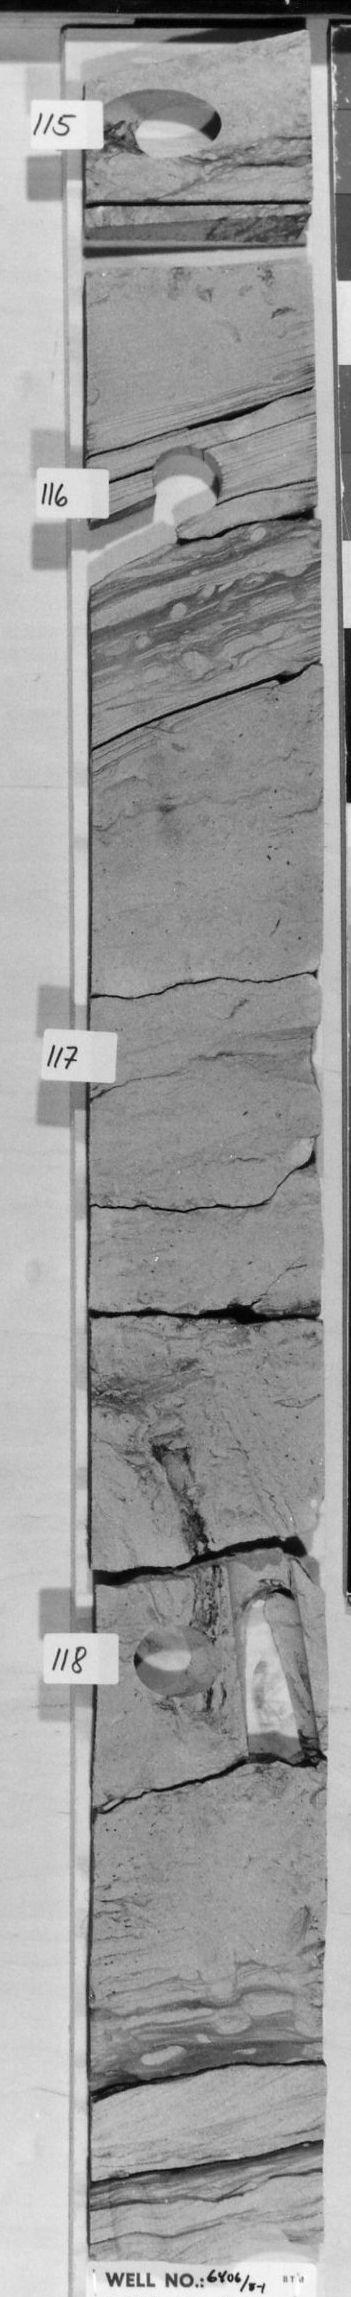hplug: (94, 81, 227, 163), (129, 1617, 227, 1704), (145, 439, 228, 522), (227, 2211, 303, 2265)
vplug: (225, 1545, 323, 1771), (99, 2168, 175, 2262)
